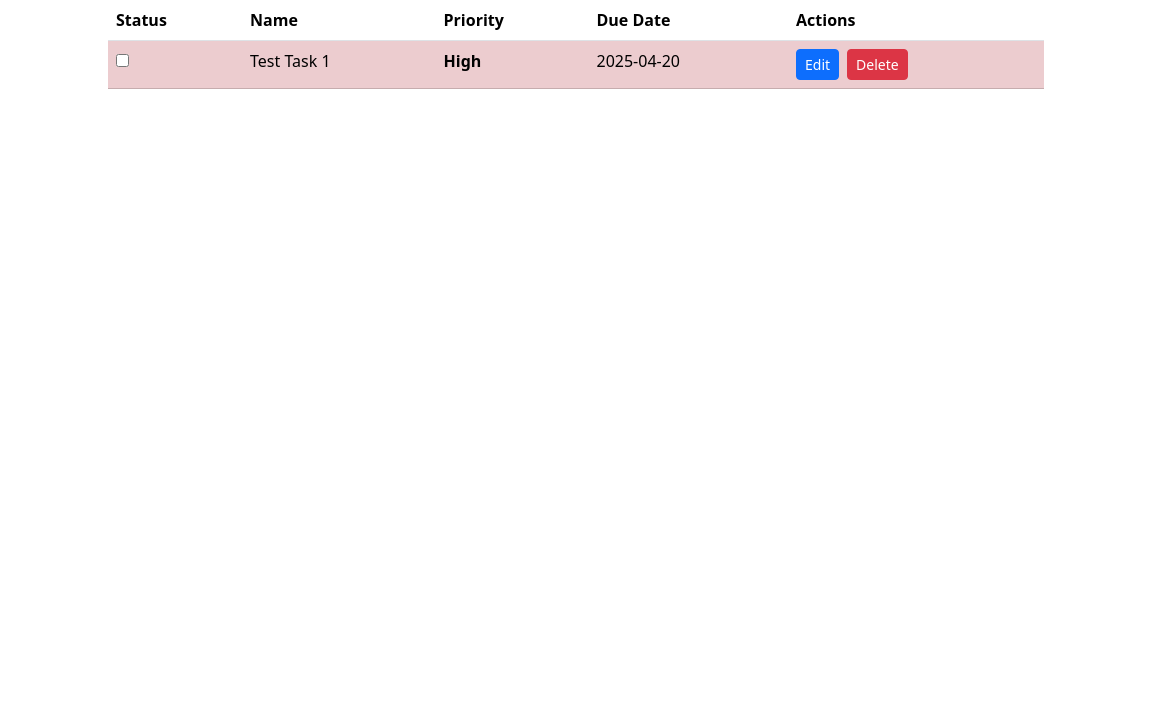
Test case: List Component › shows the edit form on edit button click
Step 1. Click the button "Edit" → (818, 64), box x1=796 y1=49 x2=839 y2=80
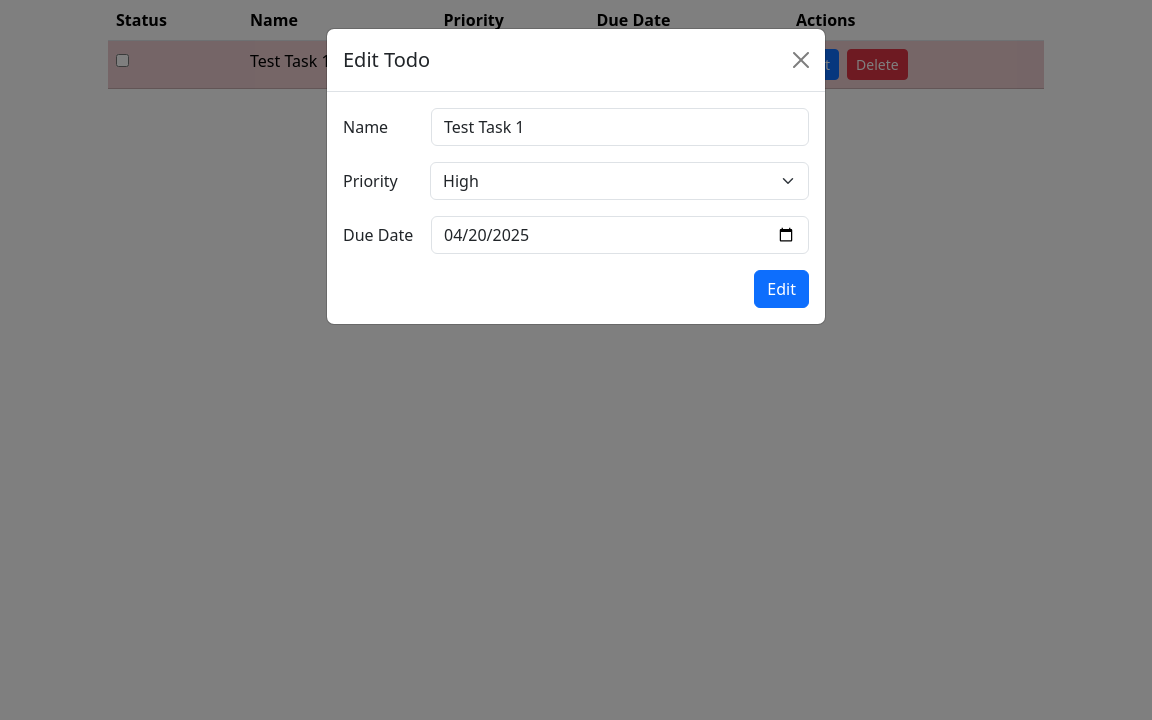
Now the heading "Edit Todo" is shown, box x1=343 y1=45 x2=430 y2=75
